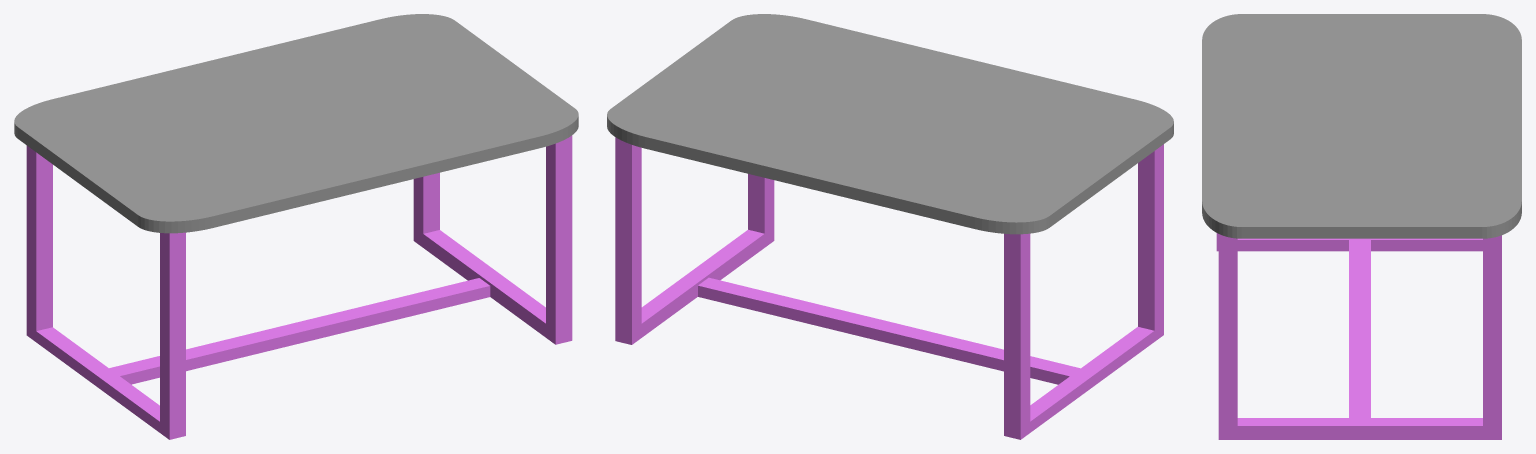
Rendered from Table.fbx.
The picture shows the model from 3 angles, left to right: view 1: azimuth 30°, elevation 25°; view 2: azimuth 150°, elevation 25°; view 3: azimuth 270°, elevation 25°; orthographic projection.
Parts seen in each view (by area): view 1: Cube.015, Cube.016, Cube.022, Cube.020, Cube.021; view 2: Cube.015, Cube.016, Cube.020, Cube.021, Cube.022; view 3: Cube.015, Cube.022, Cube.016, Cube.021.
Part boxes in pixels (x1,y1,x2,y2): Cube.015: (14,14,578,233); Cube.016: (31,232,490,439); Cube.022: (418,135,572,344); Cube.020: (26,145,52,341); Cube.021: (413,172,439,247); Cube.015: (607,14,1173,234); Cube.016: (698,144,1163,435); Cube.020: (1004,233,1030,439); Cube.021: (615,137,641,344); Cube.022: (637,174,774,340); Cube.015: (1202,14,1521,238); Cube.022: (1218,234,1491,439); Cube.016: (1216,233,1482,417); Cube.021: (1483,235,1501,439).
Bounding box in the file's own units: 4.54 × 2.19 × 2.88.
